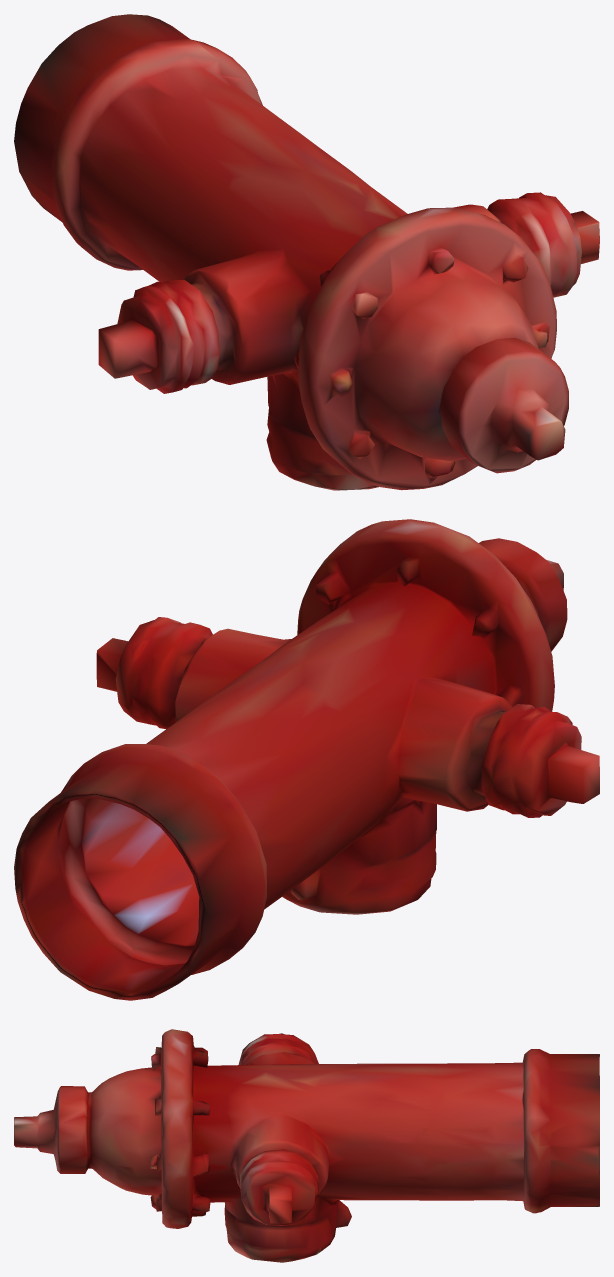
Rendered from hydrant-red.glb.
3 views of the same model, one above another, from view 1: azimuth 30°, elevation 25°; view 2: azimuth 150°, elevation 25°; view 3: azimuth 270°, elevation 25° (orthographic). The views are drawn at different scales.
Visible parts, largest first — view 1: hydrant-red; view 2: hydrant-red; view 3: hydrant-red.
Boxes of the visible parts, x1,y1,x2,y2 form: hydrant-red: (14, 14, 599, 490); hydrant-red: (14, 519, 599, 1000); hydrant-red: (14, 1029, 599, 1262).
Size of the model in its own units: 0.6428 by 0.3827 by 1.
